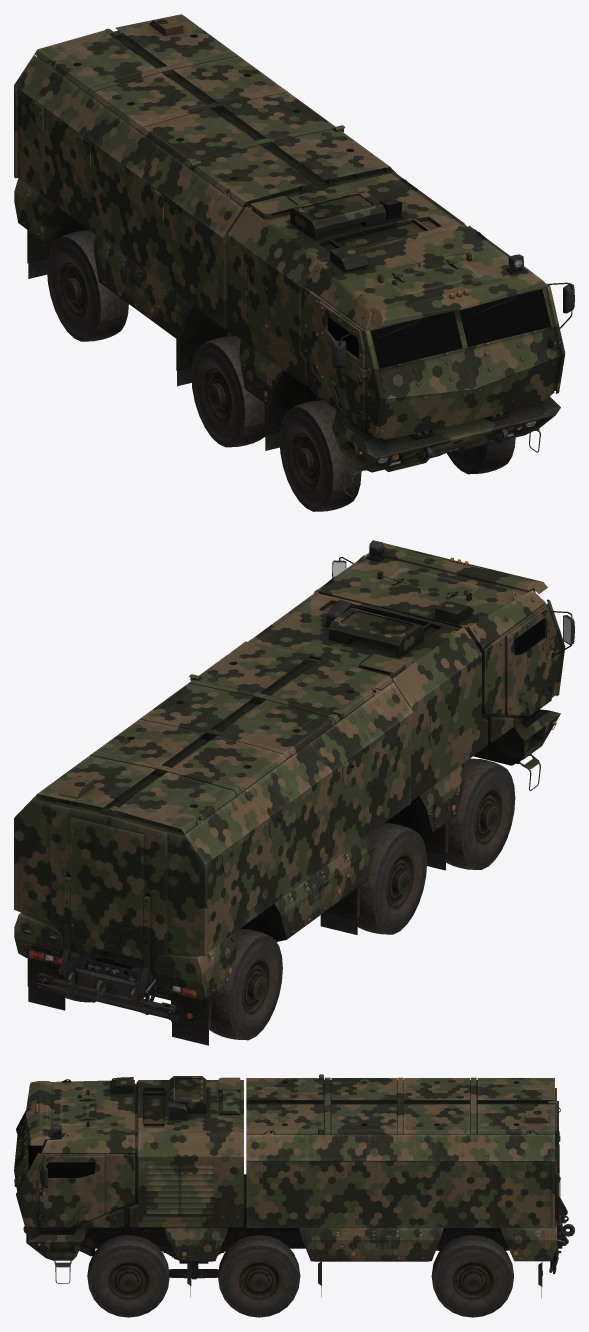
The model's file is typhoon.glb.
The picture shows the model from 3 angles, top to bottom: view 1: azimuth 30°, elevation 25°; view 2: azimuth 150°, elevation 25°; view 3: azimuth 270°, elevation 25°; orthographic projection. The views are drawn at different scales.
Parts seen in each view (by area): view 1: Body; view 2: Body; view 3: Body.
Boxes of the visible parts, x1=… form: Body: x1=14, y1=14, x2=574, y2=511; Body: x1=14, y1=540, x2=574, y2=1045; Body: x1=14, y1=1074, x2=574, y2=1317.
Size of the model in its own units: 3.31 by 3.39 by 8.99.
Materials: 18 (18 with a texture image).
